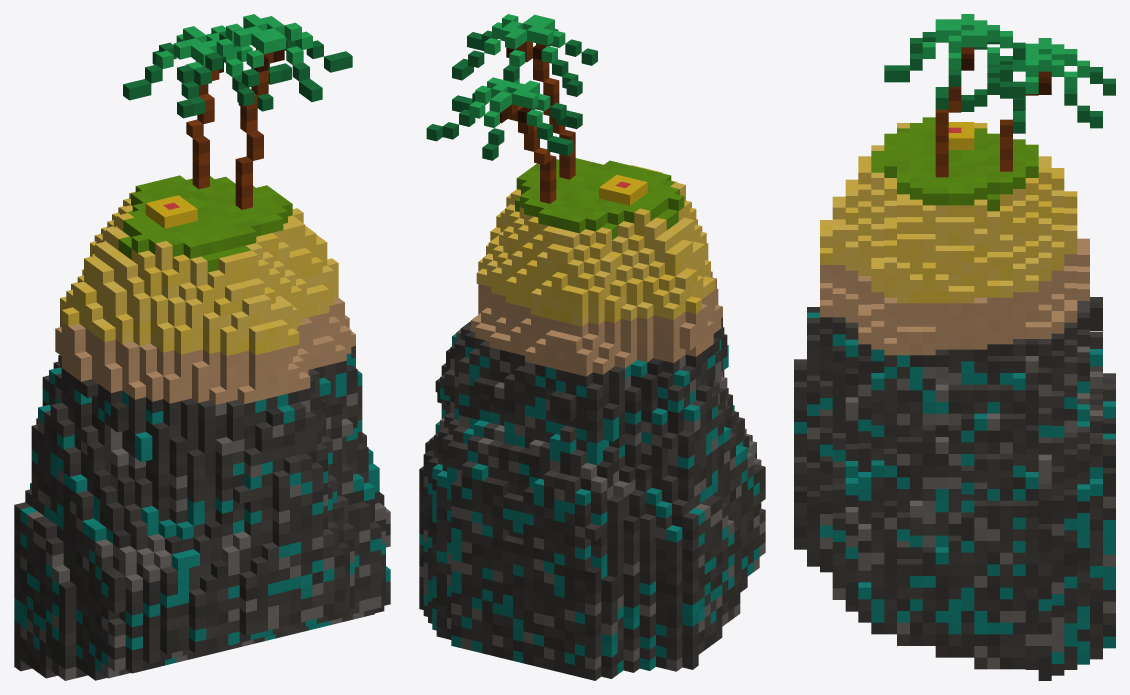
File: treasure_island.glb
The picture shows the model from 3 angles, left to right: view 1: azimuth 30°, elevation 25°; view 2: azimuth 150°, elevation 25°; view 3: azimuth 270°, elevation 25°; orthographic projection. The views are drawn at different scales.
Parts seen in each view (by area): view 1: TreasureIsland; view 2: TreasureIsland; view 3: TreasureIsland.
Part boxes in pixels (box(x1,y1,x2,y2)): TreasureIsland: box(14, 14, 390, 680); TreasureIsland: box(419, 14, 765, 680); TreasureIsland: box(794, 14, 1115, 680).
Bounding box in the file's own units: 1.43 × 2.92 × 1.38.
